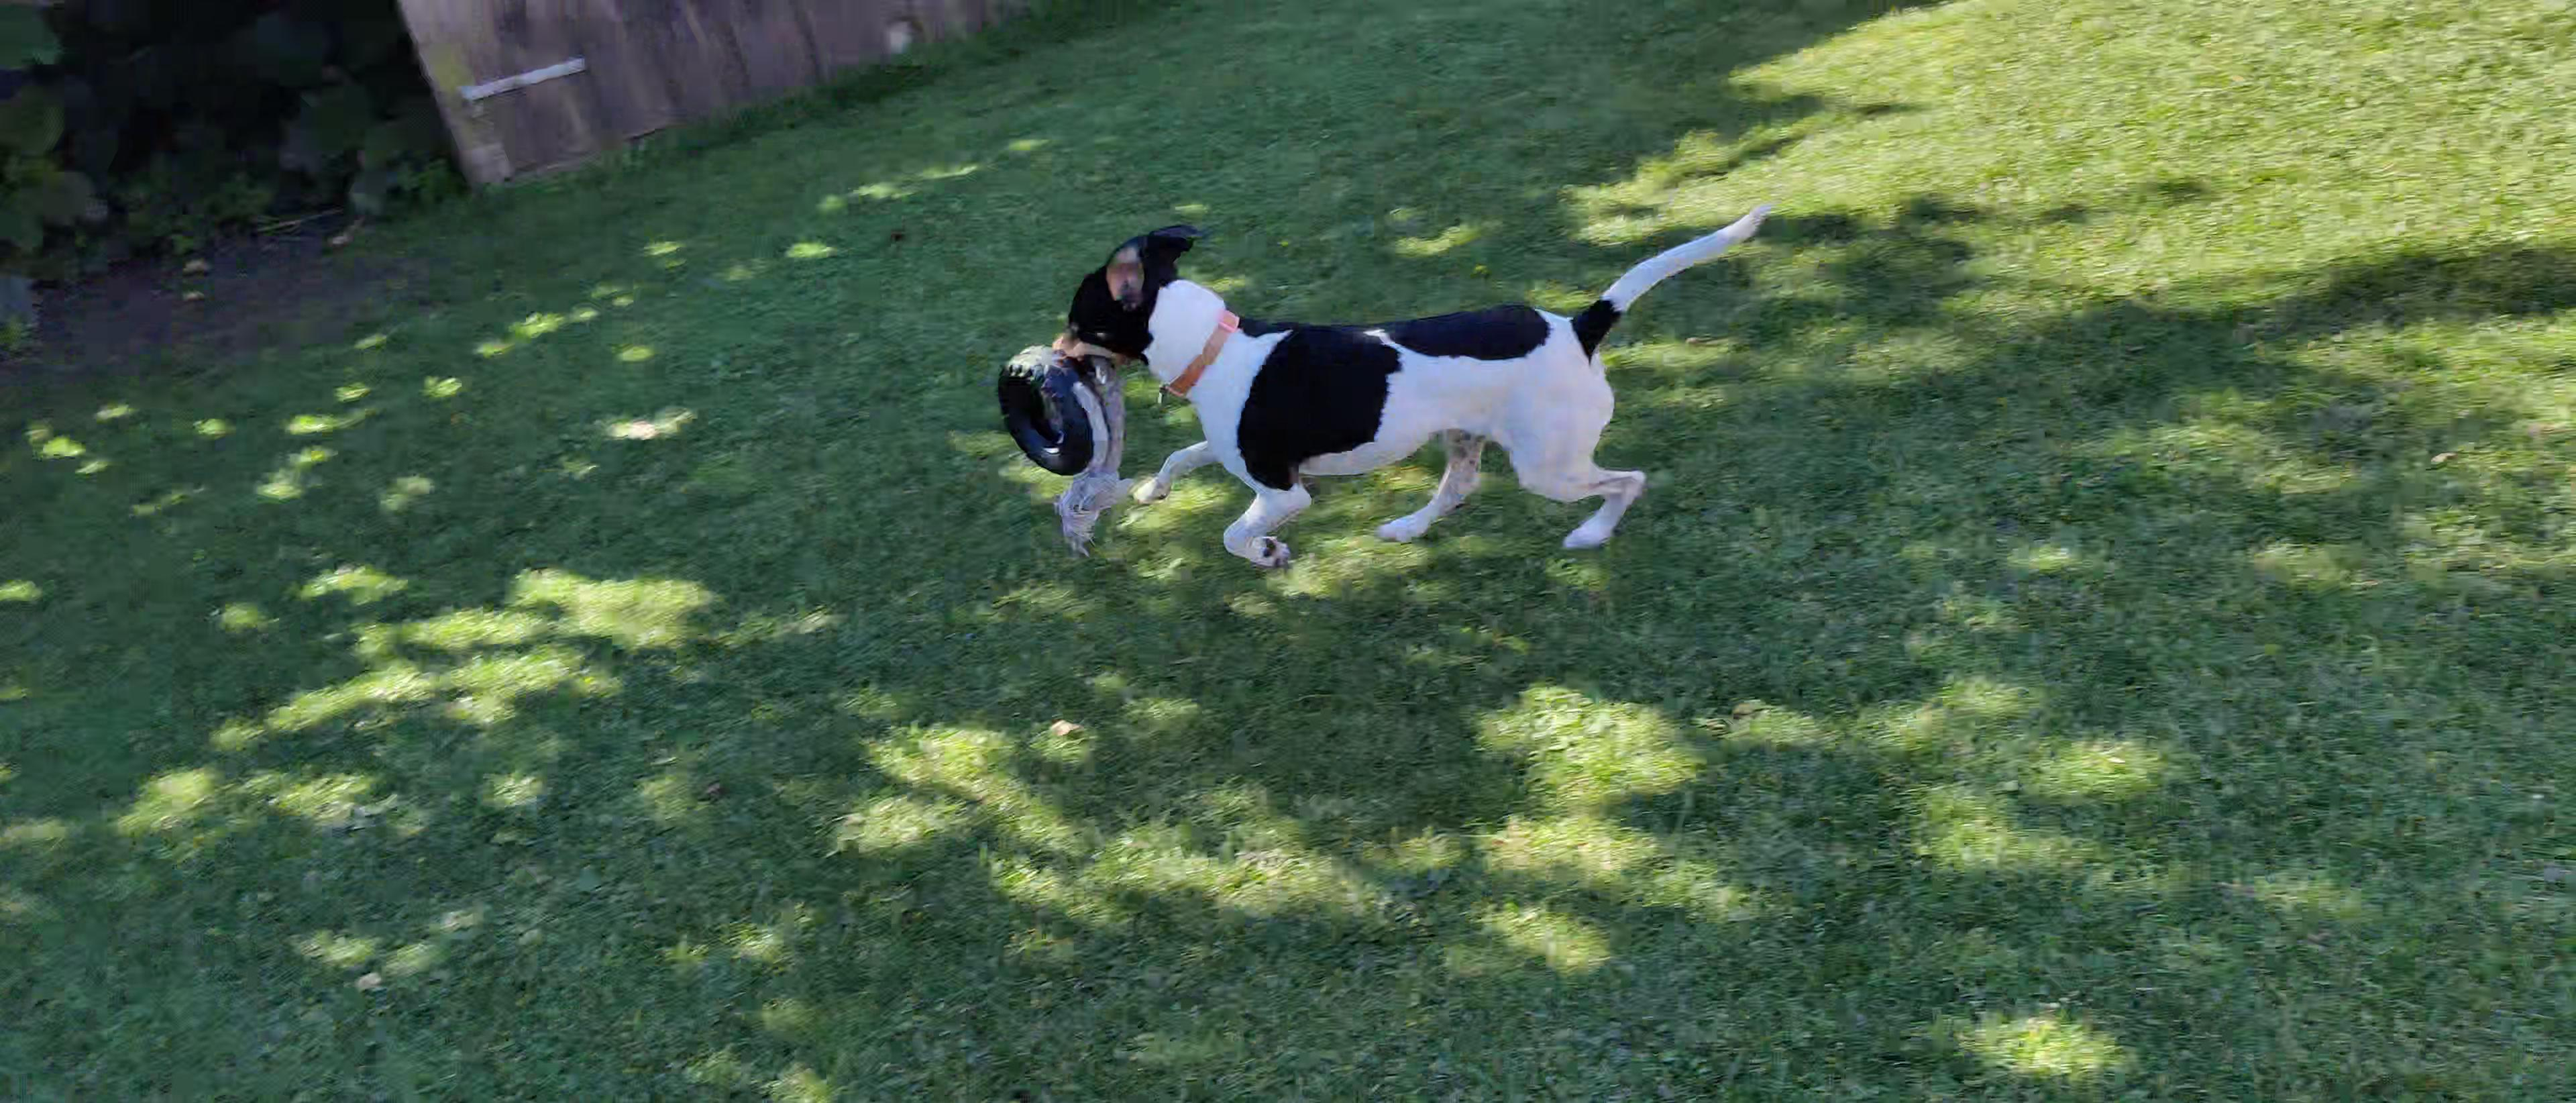Dog: (1019, 192, 1779, 579)
